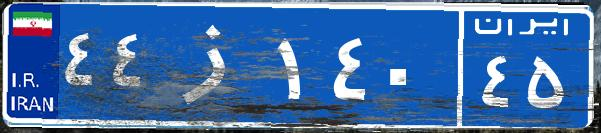0: (385, 28, 445, 110)
1: (273, 28, 330, 110)
4: (330, 28, 385, 110), (57, 26, 110, 107), (475, 38, 525, 113), (110, 28, 158, 105)
5: (525, 38, 570, 115)
ز: (158, 15, 273, 115)
